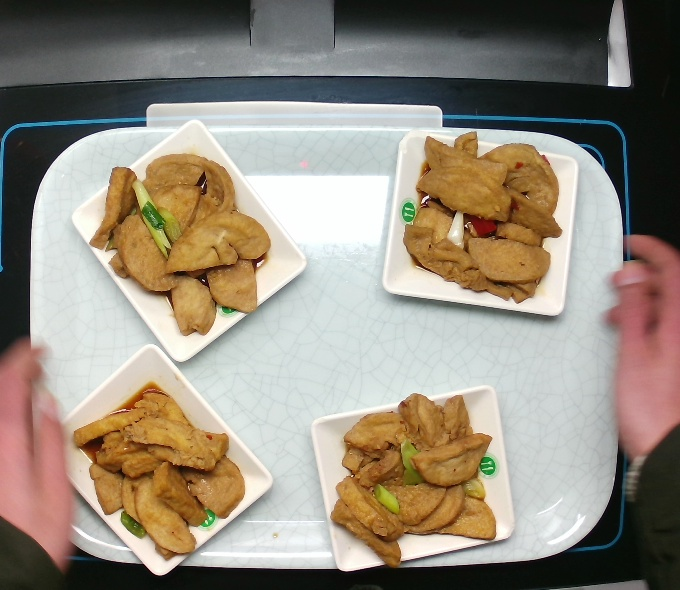wcq-SuJi: (86, 148, 273, 339), (69, 380, 249, 566), (328, 385, 502, 575), (397, 122, 568, 311)
